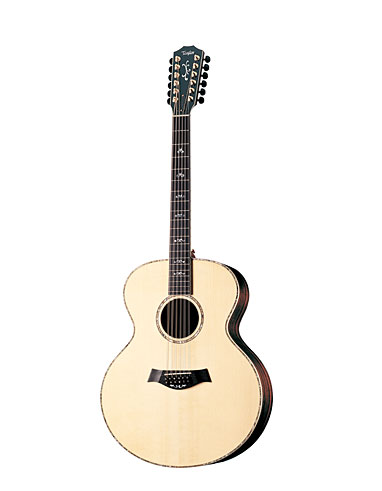guitar: (100, 42, 274, 471)
